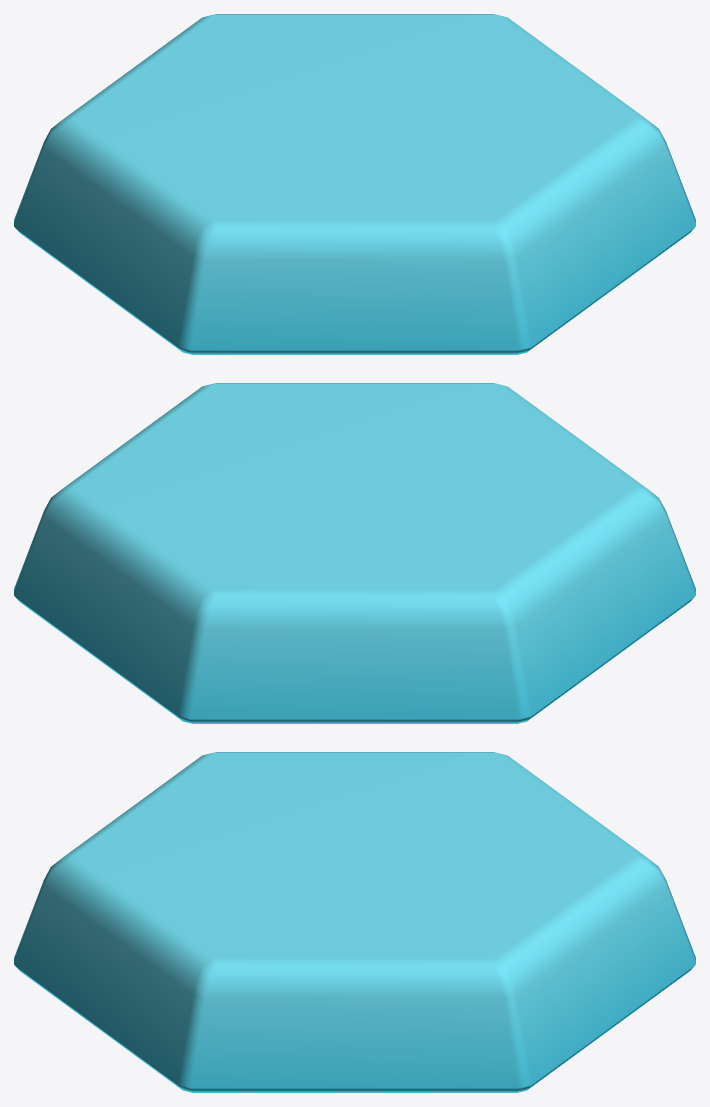
Rendered from obstacle_5_001.fbx.
3 renders of one model, top to bottom at view 1: azimuth 30°, elevation 25°; view 2: azimuth 150°, elevation 25°; view 3: azimuth 270°, elevation 25°, orthographic.
Visible parts, largest first — view 1: obstacle_5_001; view 2: obstacle_5_001; view 3: obstacle_5_001.
Boxes of the visible parts, x1,y1,x2,y2 form: obstacle_5_001: [14, 14, 695, 354]; obstacle_5_001: [14, 383, 695, 723]; obstacle_5_001: [14, 752, 695, 1092].
Size of the model in its own units: 285 by 325 by 59.76.
